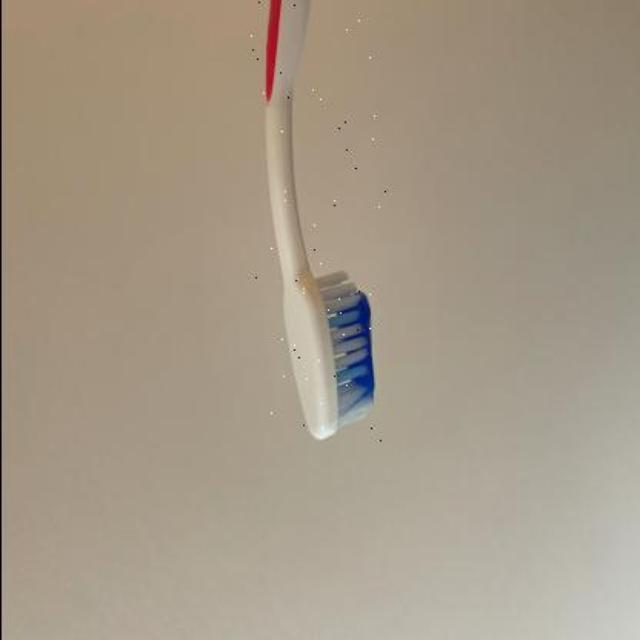toothbrush: (248, 0, 384, 452)
